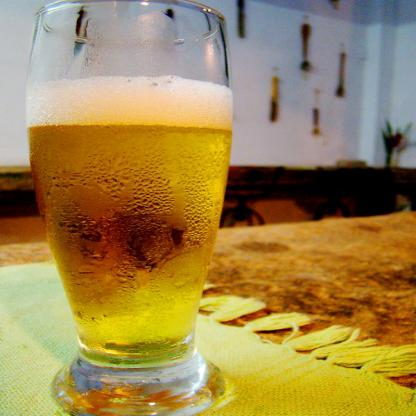drinking: (25, 0, 233, 415)
